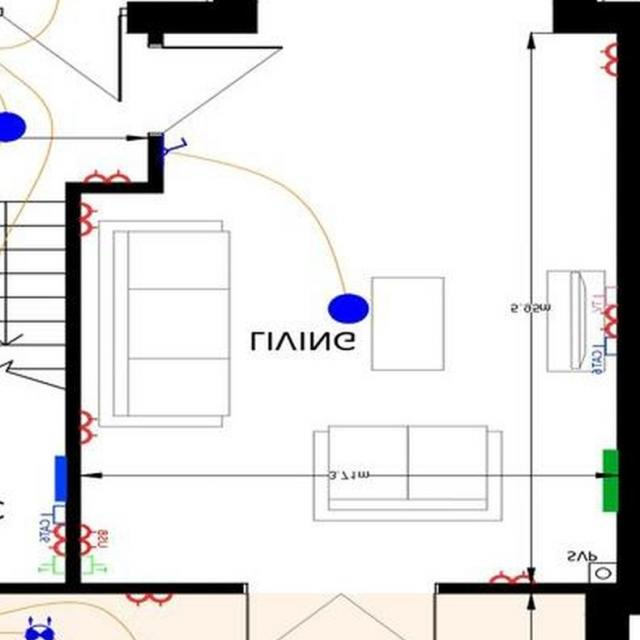Cat 6 Data Socket: (34, 504, 66, 543), (589, 340, 615, 375)
Double Socket: (488, 572, 536, 585), (78, 202, 96, 236), (80, 412, 98, 446), (84, 171, 130, 184), (126, 596, 172, 608), (600, 43, 616, 77), (600, 306, 616, 338), (49, 526, 66, 555)
Light Switch: (162, 137, 186, 157)
Low Energy Downlighter: (23, 617, 55, 640)
Low Energy Pendant Light: (326, 294, 368, 325), (0, 116, 23, 142)
Radiator: (601, 448, 618, 514)
Telephone Socket: (80, 557, 108, 575), (37, 558, 63, 576)
Twin LED Strip Light: (51, 457, 66, 504)
USB Double Socket: (80, 524, 108, 556)
